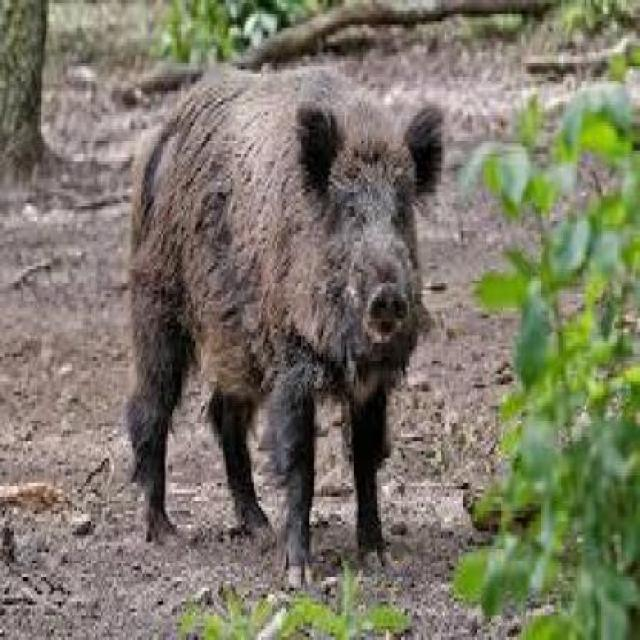Wild Boar: (122, 56, 450, 604)
